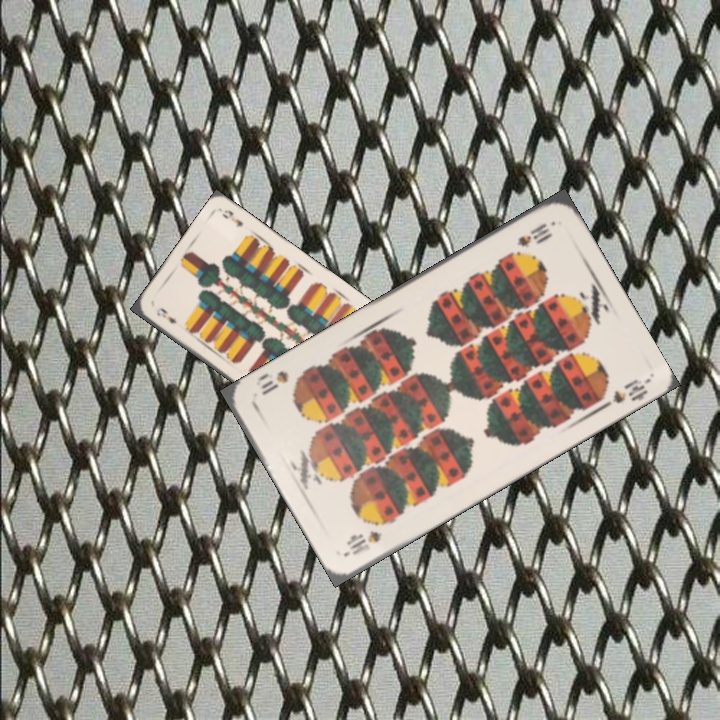E9: (153, 303, 179, 326)
S10: (342, 526, 385, 558), (512, 218, 554, 250)
